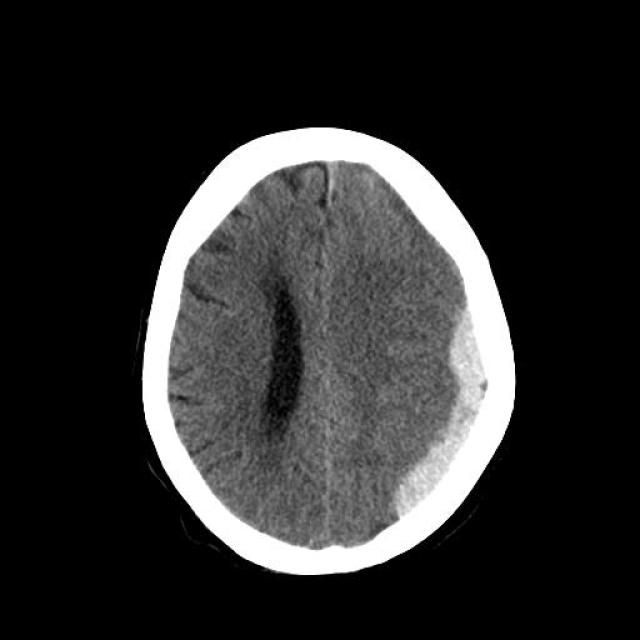Subdural: (382, 301, 528, 529)
